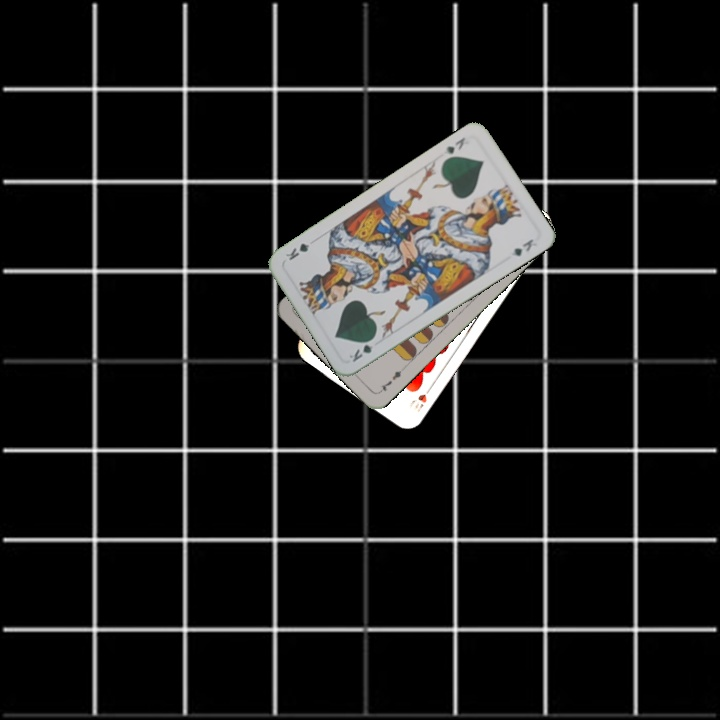E7: (375, 366, 404, 396)
GK: (345, 333, 378, 365), (440, 133, 468, 157)
H10: (405, 381, 435, 415)
